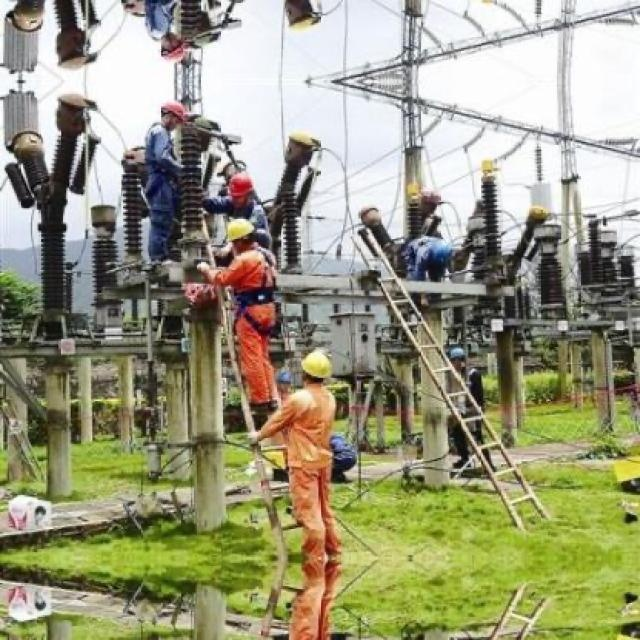Arnes_seguridad: (223, 272, 282, 344)
